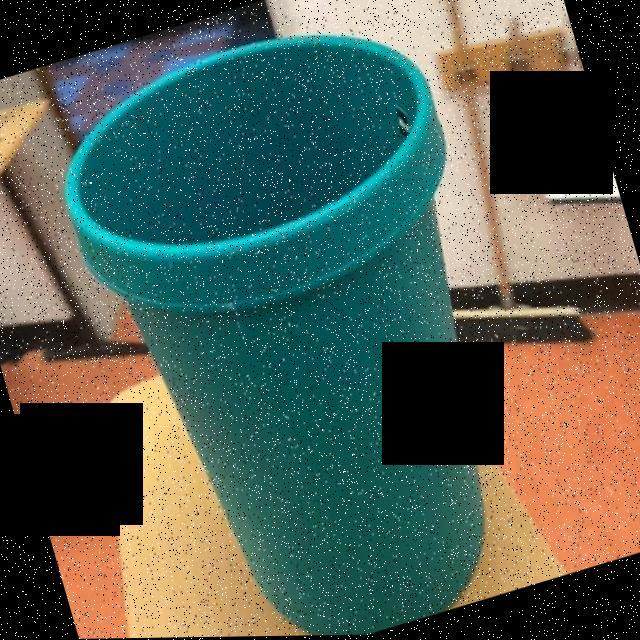bin: (6, 0, 613, 640)
